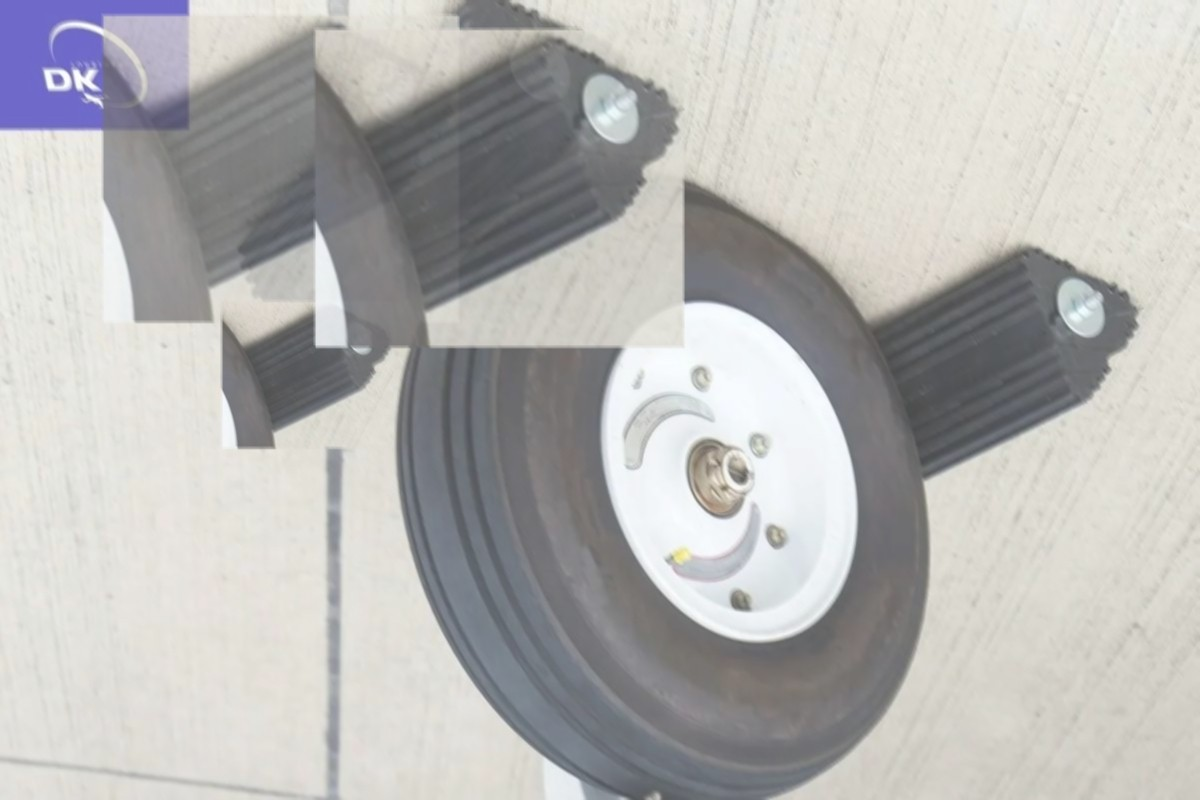chock: (189, 0, 631, 390), (316, 29, 685, 347), (104, 15, 460, 322), (831, 240, 1144, 510), (223, 301, 394, 448)
wheel: (404, 181, 929, 799)
